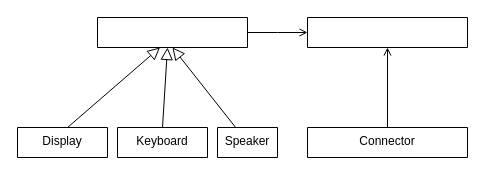
Image size: 485x175. Some labels were removed from this diagram. The shapes that lost their labels are listed below. From the top down, each one's box as (x1, y1, x2, y2) in pixels, then its label:
(96, 16, 248, 48): IComponent
(306, 16, 468, 48): Controller
